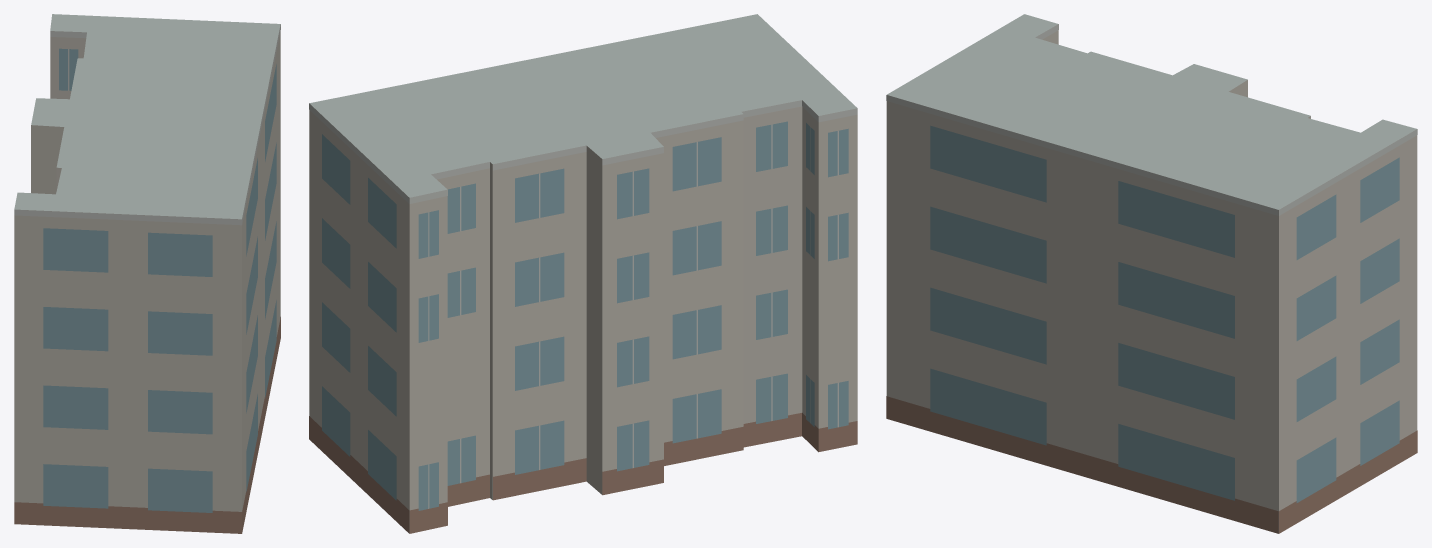
The model's file is survey-upis-33020190.glb.
3 renders of one model, left to right at view 1: azimuth 30°, elevation 25°; view 2: azimuth 150°, elevation 25°; view 3: azimuth 270°, elevation 25°, orthographic. The views are drawn at different scales.
Visible parts, largest first — view 1: survey-upis-33020190.tmp; view 2: survey-upis-33020190.tmp; view 3: survey-upis-33020190.tmp.
Boxes of the visible parts, x1,y1,x2,y2 form: survey-upis-33020190.tmp: (14,14,280,533); survey-upis-33020190.tmp: (309,14,857,533); survey-upis-33020190.tmp: (886,14,1417,533).
Bounding box in the file's own units: 16.74 × 12.9 × 19.17.
